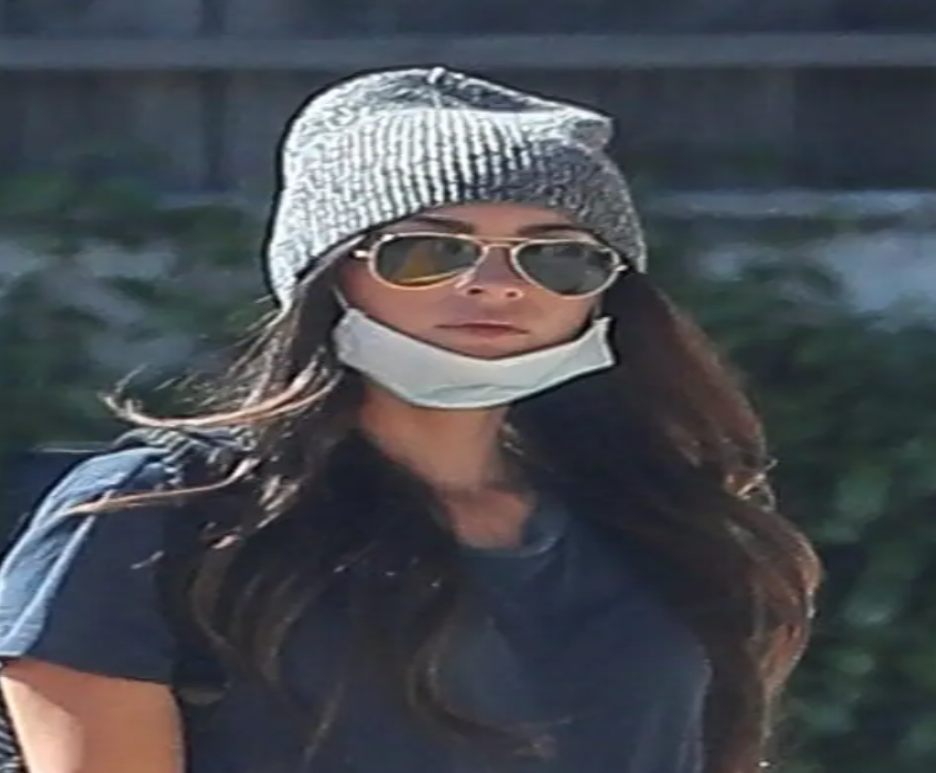mask_weared_incorrect: (267, 70, 645, 416)
